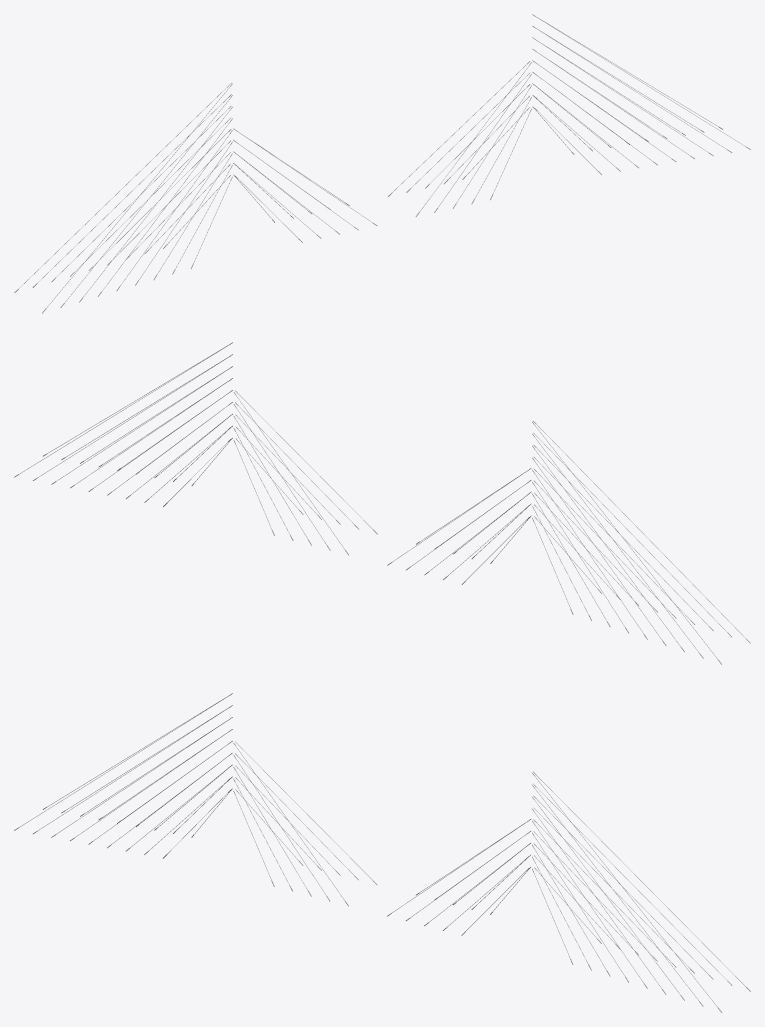
File: SM_Ponte_Stralli.fbx
3 views of the same model, one above another, from view 1: azimuth 30°, elevation 25°; view 2: azimuth 150°, elevation 25°; view 3: azimuth 330°, elevation 25° (orthographic). The views are drawn at different scales.
Parts seen in each view (by area): view 1: SM_Ponte_Stralli; view 2: SM_Ponte_Stralli; view 3: SM_Ponte_Stralli.
Boxes of the visible parts, left/top/right/bottom form: SM_Ponte_Stralli: left=14, top=14, right=750, bottom=313; SM_Ponte_Stralli: left=14, top=342, right=750, bottom=664; SM_Ponte_Stralli: left=14, top=693, right=750, bottom=1012.
Bounding box in the file's own units: 11426 × 1138 × 2728.
1 material, 1 textured.
